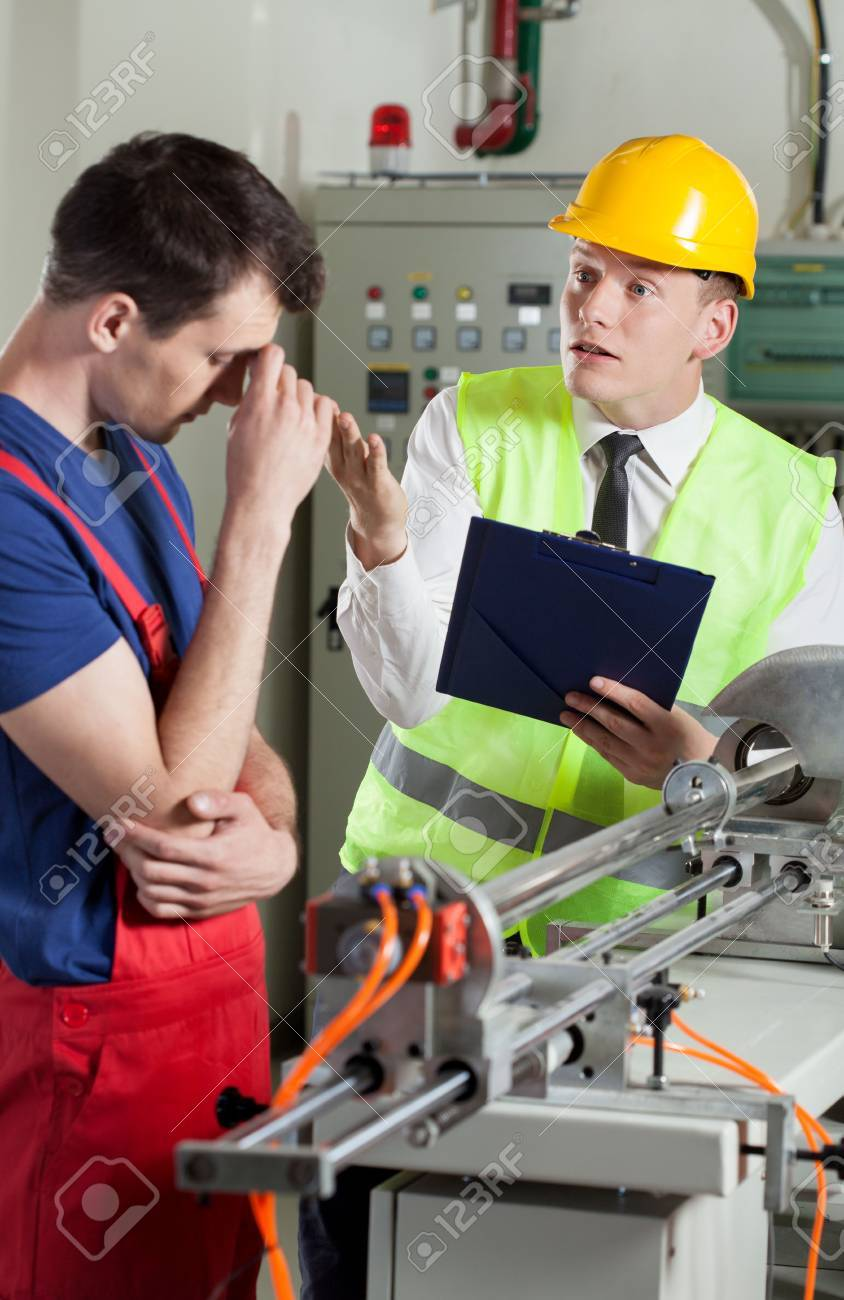Helmet: (543, 127, 764, 306)
